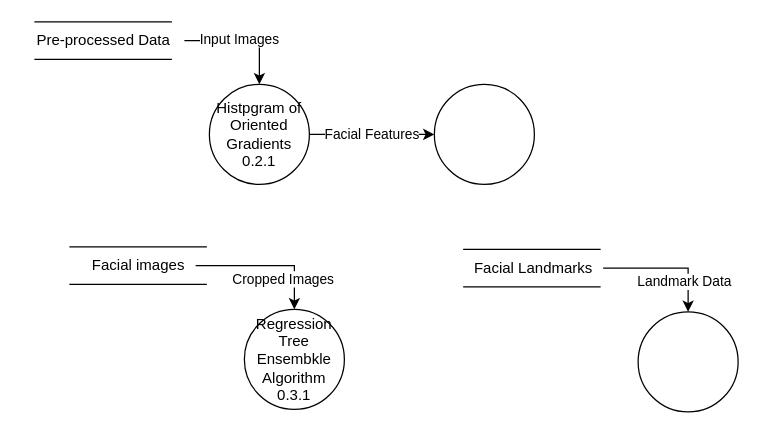
This 760x434 diagram has some shape labels left out. The centre of each missing label's shape, as x and y in pixels:
Euclidean Algorithm 0.4.1: point 687,361
Linear Support Vector Machines 0.2.2: point 483,133
